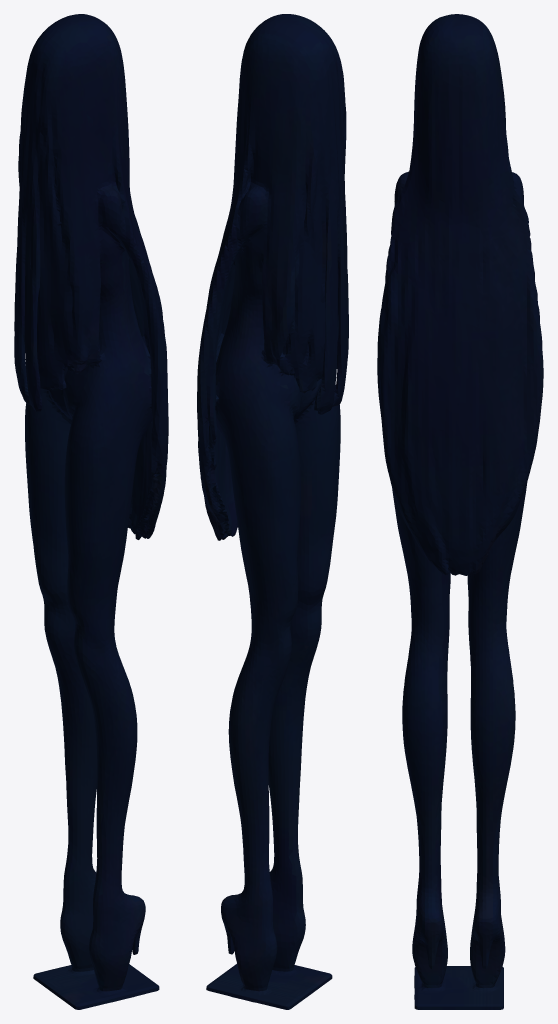
File: garak_doll4.glb
3 renders of one model, left to right at view 1: azimuth 30°, elevation 25°; view 2: azimuth 150°, elevation 25°; view 3: azimuth 270°, elevation 25°, orthographic.
Parts seen in each view (by area): view 1: doll4.obj; view 2: doll4.obj; view 3: doll4.obj.
Part boxes in pixels (x1,y1,x2,y2): doll4.obj: (14, 14, 168, 1009); doll4.obj: (197, 14, 348, 1009); doll4.obj: (377, 14, 543, 1009).
Size of the model in its own units: 0.2696 by 1.97 by 0.3078.
Materials: 1 (1 with a texture image).
